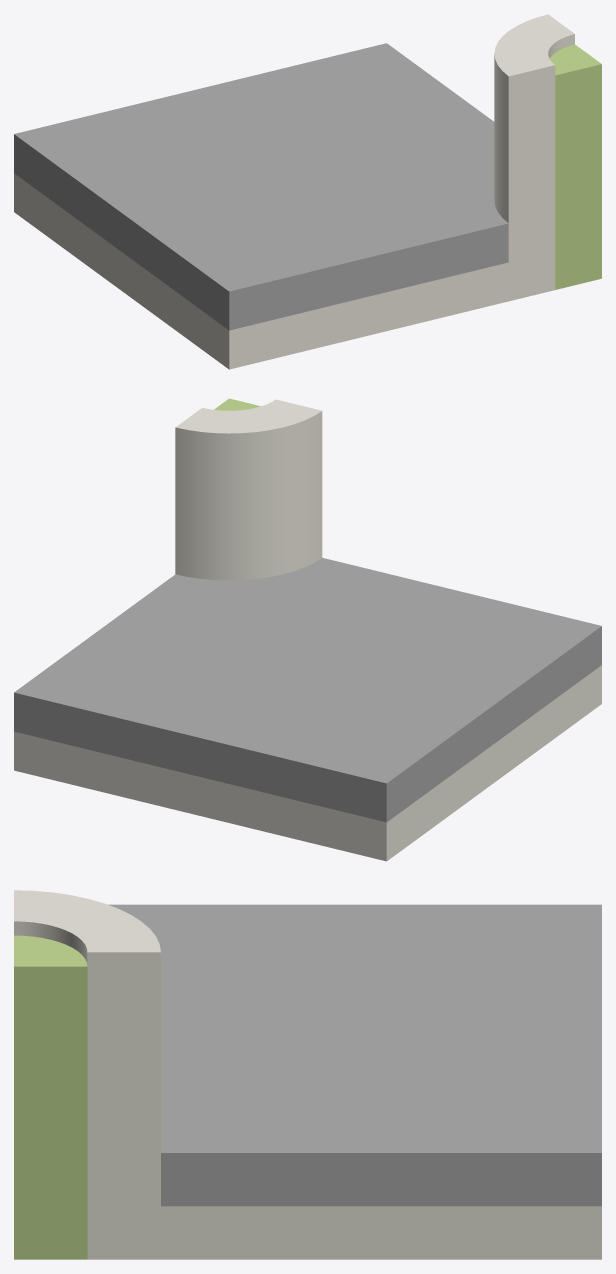
Rendered from tile231.glb.
The picture shows the model from 3 angles, top to bottom: view 1: azimuth 30°, elevation 25°; view 2: azimuth 150°, elevation 25°; view 3: azimuth 270°, elevation 25°; orthographic projection. The views are drawn at different scales.
Visible parts, largest first — view 1: tile231; view 2: tile231; view 3: tile231.
Boxes of the visible parts, bbox=[...] form: tile231: bbox=[14, 14, 601, 369]; tile231: bbox=[14, 398, 601, 861]; tile231: bbox=[14, 890, 601, 1259].
Bounding box in the file's own units: 1 × 0.5767 × 1.
